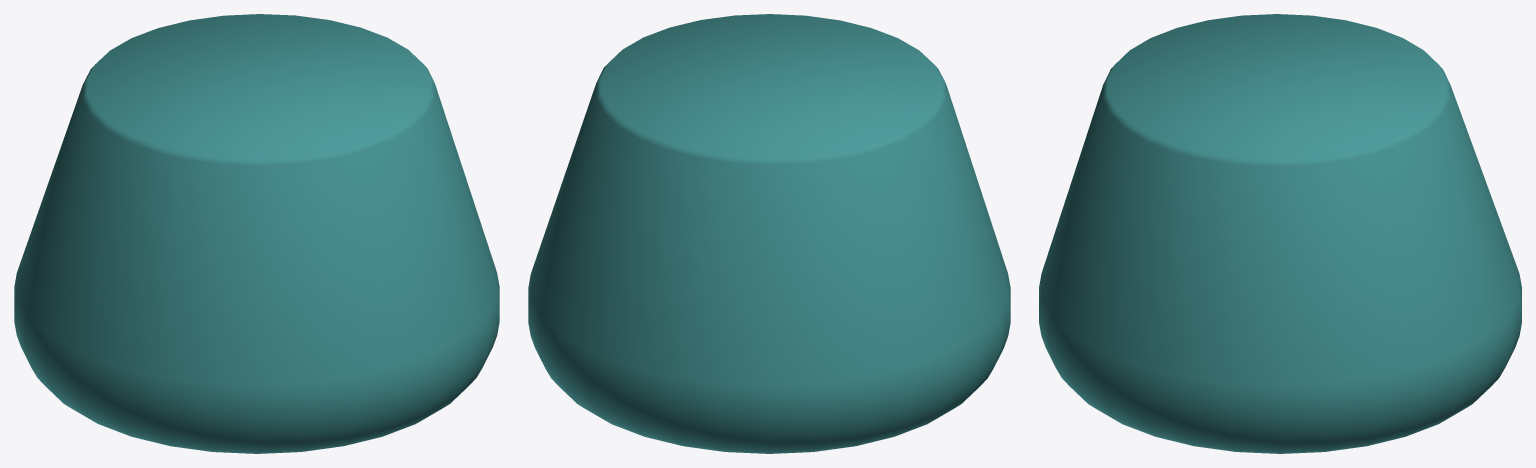
Rendered from SM_大号锥形瓶液体_006.fbx.
3 views of the same model, side by side, from view 1: azimuth 30°, elevation 25°; view 2: azimuth 150°, elevation 25°; view 3: azimuth 270°, elevation 25° (orthographic).
Parts seen in each view (by area): view 1: SM_大号锥形瓶液体_006; view 2: SM_大号锥形瓶液体_006; view 3: SM_大号锥形瓶液体_006.
Boxes of the visible parts, x1,y1,x2,y2 form: SM_大号锥形瓶液体_006: [14, 14, 499, 453]; SM_大号锥形瓶液体_006: [528, 14, 1010, 453]; SM_大号锥形瓶液体_006: [1039, 14, 1521, 453].
Bounding box in the file's own units: 0.2159 × 0.1389 × 0.2147.
